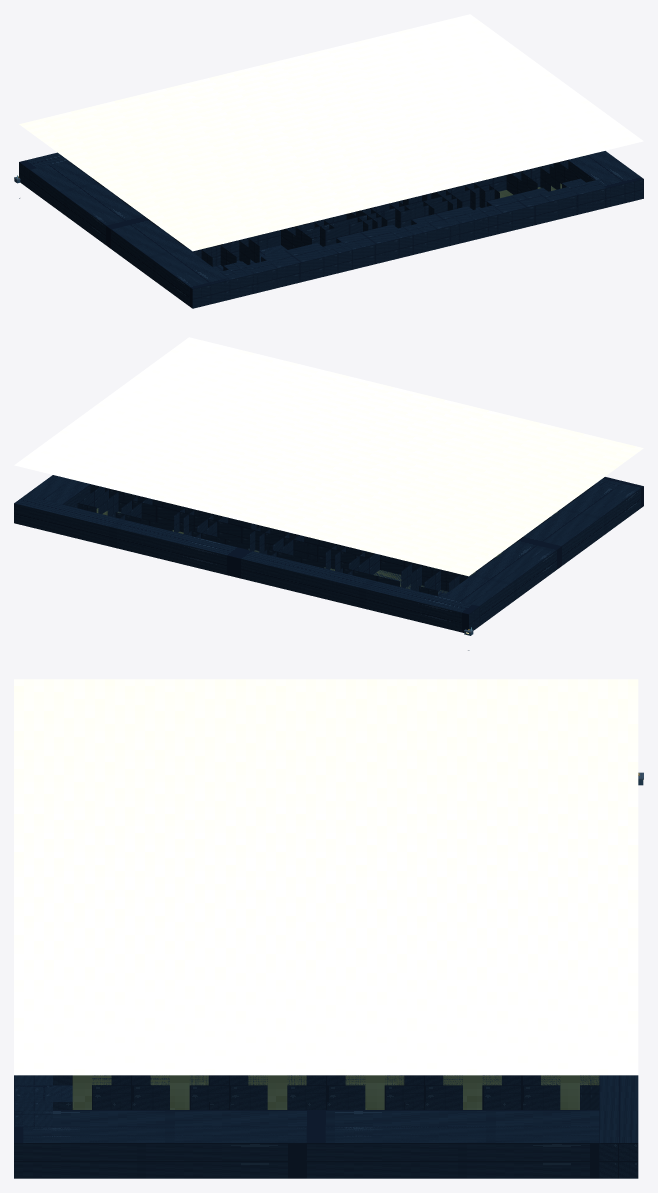
Rendered from level.gltf.
The picture shows the model from 3 angles, top to bottom: view 1: azimuth 30°, elevation 25°; view 2: azimuth 150°, elevation 25°; view 3: azimuth 270°, elevation 25°; orthographic projection. The views are drawn at different scales.
Parts seen in each view (by area): view 1: PROP_SECTOR_0, PROP_SECTOR_1, PROP_SECTOR_3, PROP_SECTOR_2, PROP_SECTOR_6; view 2: PROP_SECTOR_0, PROP_SECTOR_1, PROP_SECTOR_3, PROP_SECTOR_2, PROP_SECTOR_5; view 3: PROP_SECTOR_0, PROP_SECTOR_1, PROP_SECTOR_2.
Part boxes in pixels (left/top/right/bottom): PROP_SECTOR_0: left=19, top=14, right=643, bottom=308; PROP_SECTOR_1: left=93, top=151, right=643, bottom=299; PROP_SECTOR_3: left=34, top=172, right=514, bottom=308; PROP_SECTOR_2: left=309, top=164, right=596, bottom=228; PROP_SECTOR_6: left=287, top=196, right=434, bottom=244; PROP_SECTOR_0: left=14, top=337, right=643, bottom=632; PROP_SECTOR_1: left=25, top=479, right=602, bottom=591; PROP_SECTOR_3: left=410, top=479, right=642, bottom=606; PROP_SECTOR_2: left=77, top=488, right=373, bottom=570; PROP_SECTOR_5: left=121, top=495, right=340, bottom=566; PROP_SECTOR_0: left=14, top=679, right=638, bottom=1178; PROP_SECTOR_1: left=14, top=1075, right=599, bottom=1142; PROP_SECTOR_2: left=14, top=1075, right=599, bottom=1101.
Size of the model in its own units: 290 by 45 by 194.
2 materials, 2 textured.
